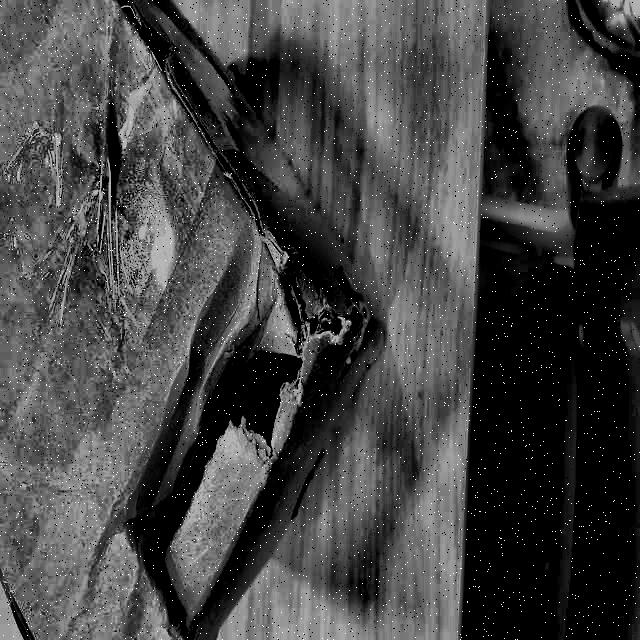box: (0, 0, 392, 640)
hole: (129, 248, 353, 630)
